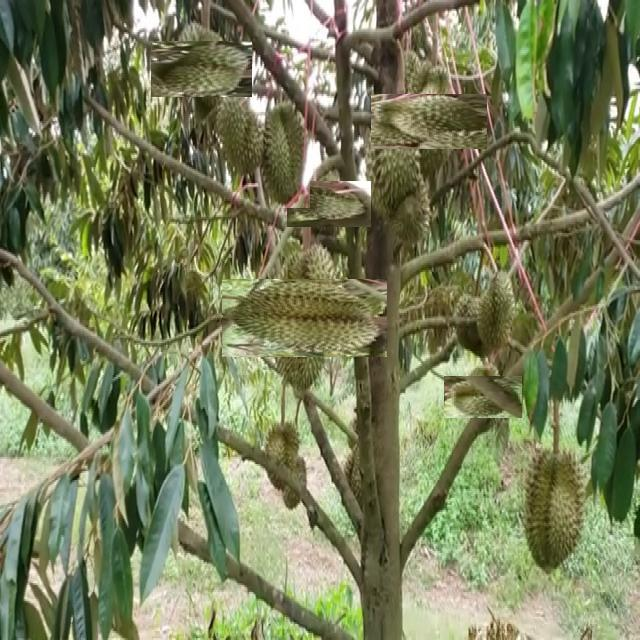durian: (243, 257, 365, 379), (361, 108, 432, 250), (522, 436, 588, 578), (386, 78, 472, 164), (161, 30, 241, 109), (260, 99, 310, 208), (214, 89, 268, 185), (262, 413, 310, 514), (296, 172, 361, 237), (475, 267, 517, 357), (453, 367, 514, 427), (452, 288, 495, 360)
